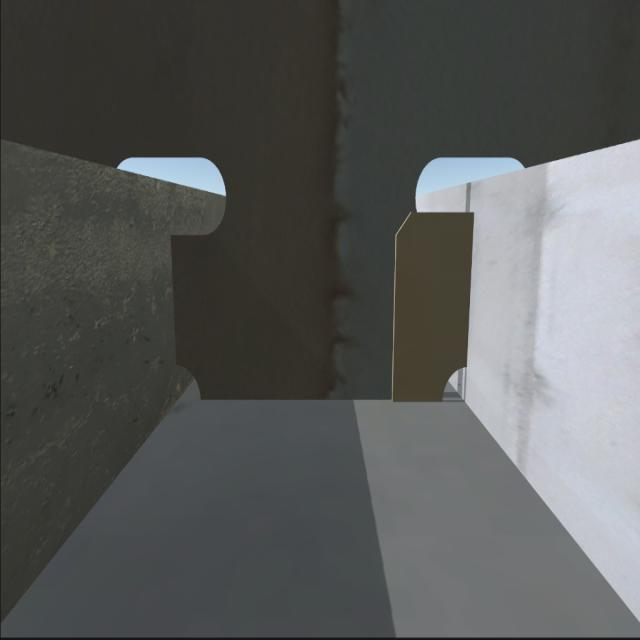fillet_hole: (437, 362, 469, 405), (172, 360, 201, 406)
fillet_yong_jeop_jang: (198, 396, 442, 410)
longi_yong_jeop_jang: (462, 210, 478, 360), (166, 238, 182, 362)
plate_CP03: (392, 208, 468, 396)
